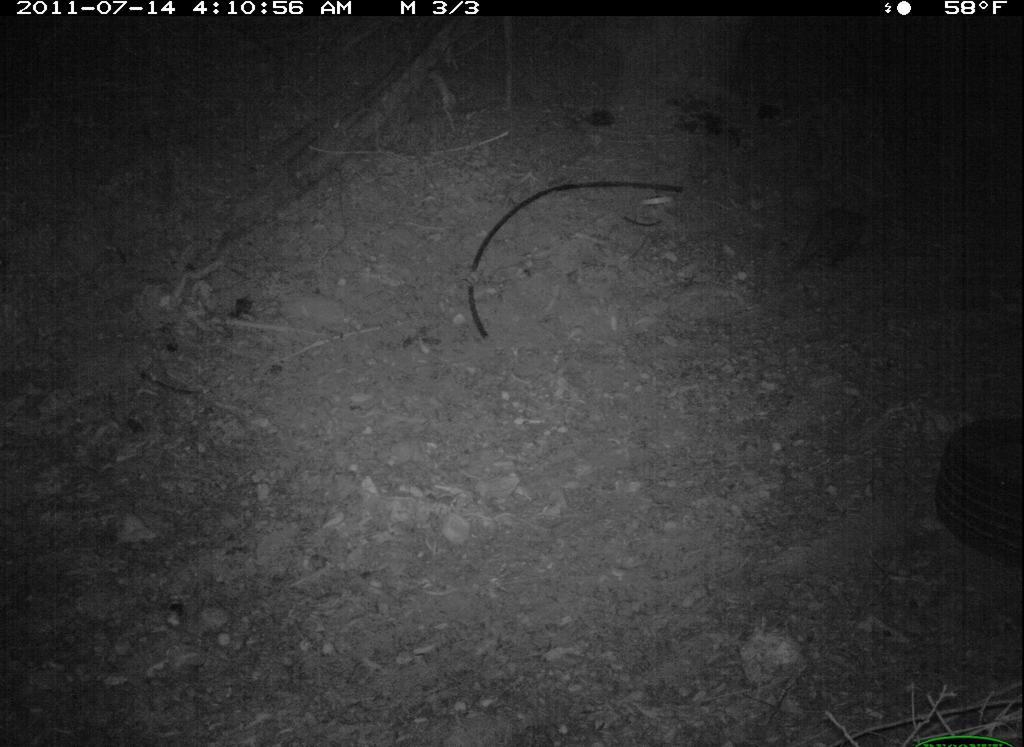opossum: (776, 182, 899, 287)
